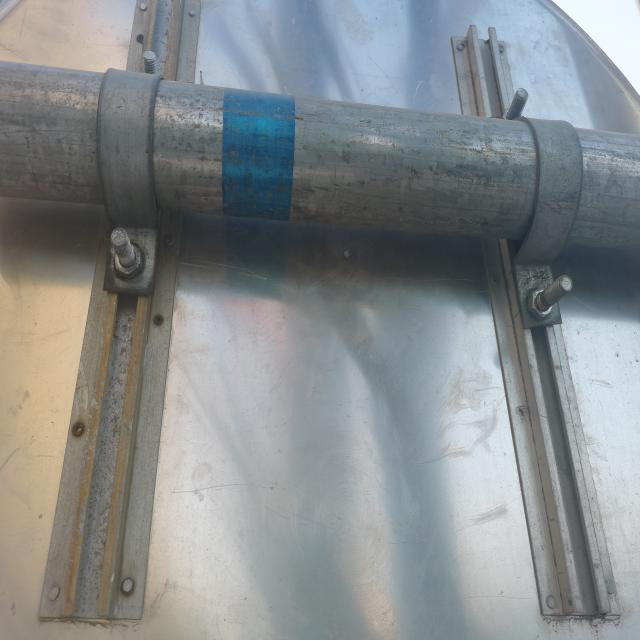bolt nut: (113, 241, 145, 280), (526, 284, 554, 322)
